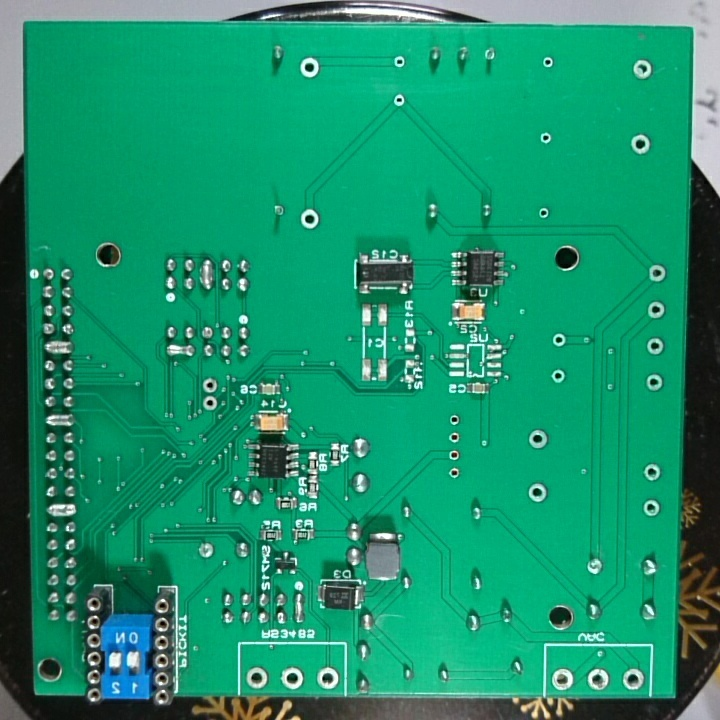F: (314, 663, 349, 691), (296, 54, 327, 85), (279, 663, 310, 692), (242, 663, 271, 692), (621, 663, 648, 694), (196, 536, 221, 569), (628, 54, 656, 83), (585, 665, 613, 693), (549, 664, 576, 693), (524, 426, 554, 452), (297, 206, 325, 233), (629, 132, 655, 158), (644, 260, 670, 285), (644, 334, 669, 359), (641, 495, 661, 522), (642, 372, 665, 395), (581, 554, 604, 577), (644, 299, 666, 322), (525, 482, 550, 502), (641, 461, 663, 483), (479, 44, 500, 66), (199, 375, 221, 396), (198, 320, 217, 343), (445, 462, 462, 486), (549, 366, 570, 385), (445, 408, 464, 429), (201, 393, 219, 415), (445, 442, 461, 466), (538, 128, 556, 149), (540, 53, 558, 74), (38, 263, 56, 283), (547, 332, 570, 347), (391, 52, 408, 72), (271, 200, 287, 220), (446, 428, 462, 447), (536, 204, 552, 222), (391, 91, 408, 104)
P: (41, 339, 78, 356), (44, 412, 76, 430), (199, 254, 213, 293), (45, 502, 77, 519), (293, 590, 307, 626), (165, 342, 196, 358)
